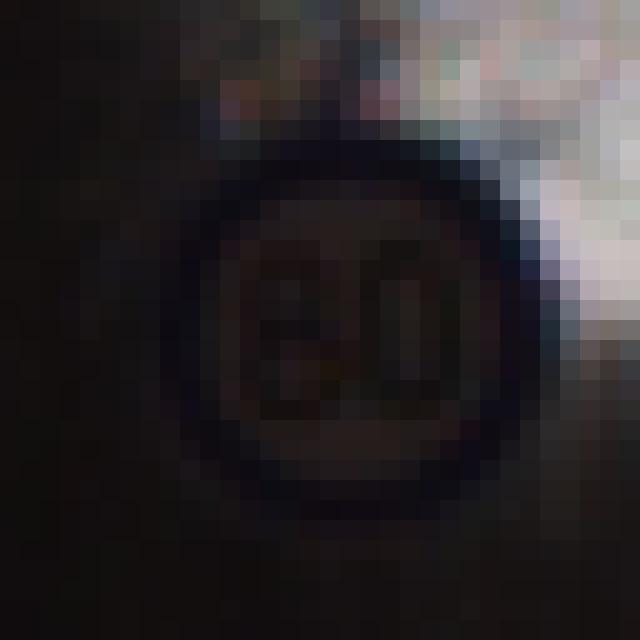SPEED-LIMIT-80: (147, 135, 557, 495)
